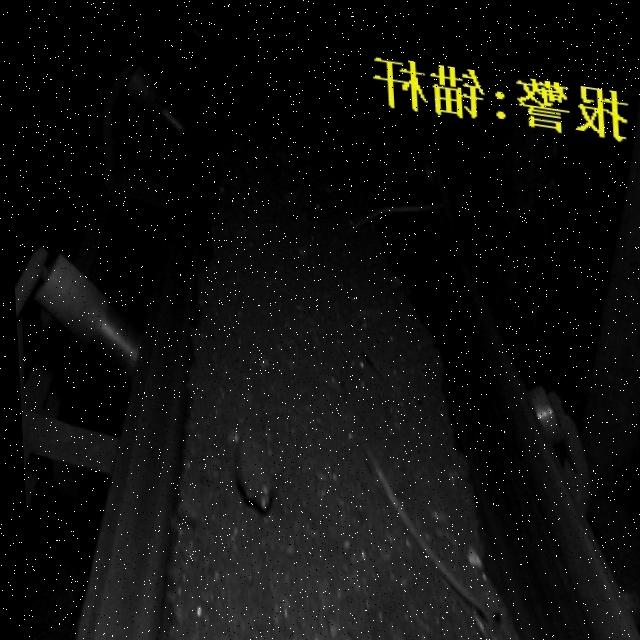bolt: (332, 169, 492, 614)
large_sized_coal: (223, 418, 286, 509)
